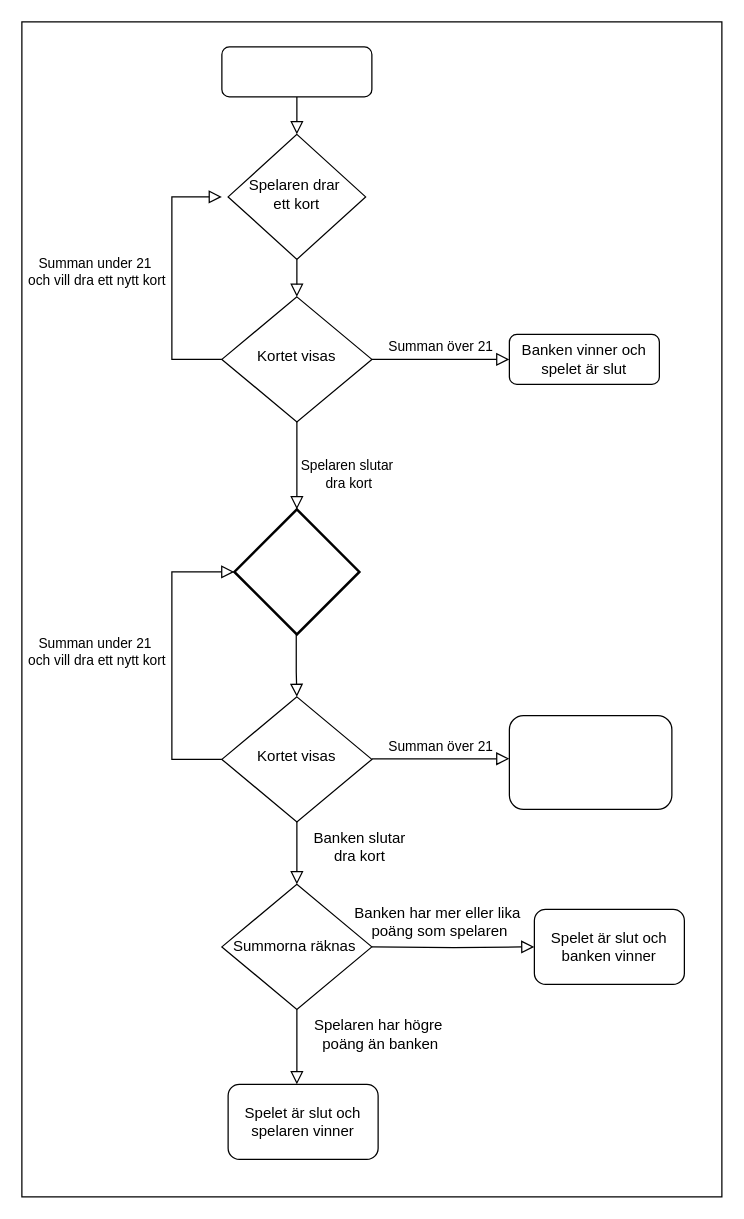
Some shapes in this 744 by 1219 pixel diagram are drawn without their labels. The shapes that lost their labels are listed below. From the top down, each one's centre as x and y in pixels, then its label:
the point at 296,71: Spelet startar
the point at 296,571: Banken drar ett kort
the point at 590,761: Spelet slut och spelaren vinner
